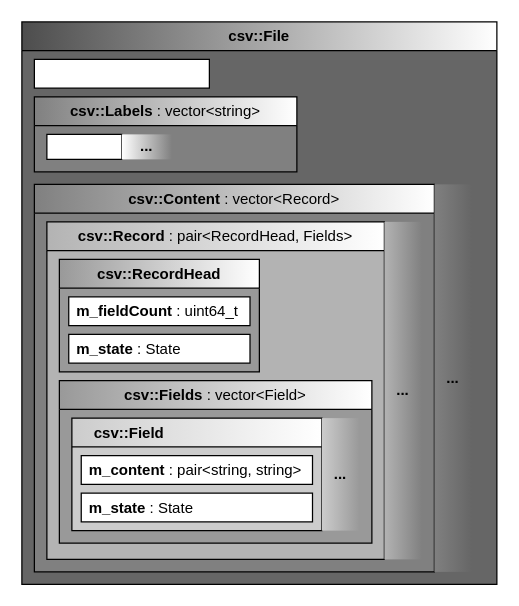
The diagram is 519 pixels wide and 606 high, and some of its shapes have lost their labels. The centre of each missing label's shape, as x and y in pixels:
m_file : string: pixel 121 73
string: pixel 84 146
